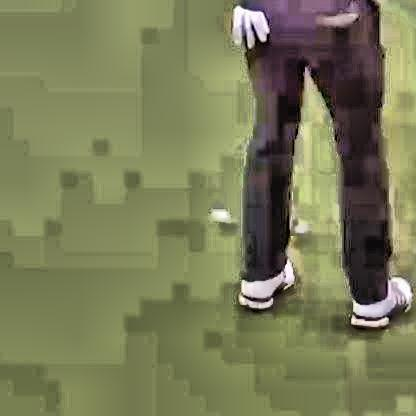golfball: (206, 206, 229, 223)
